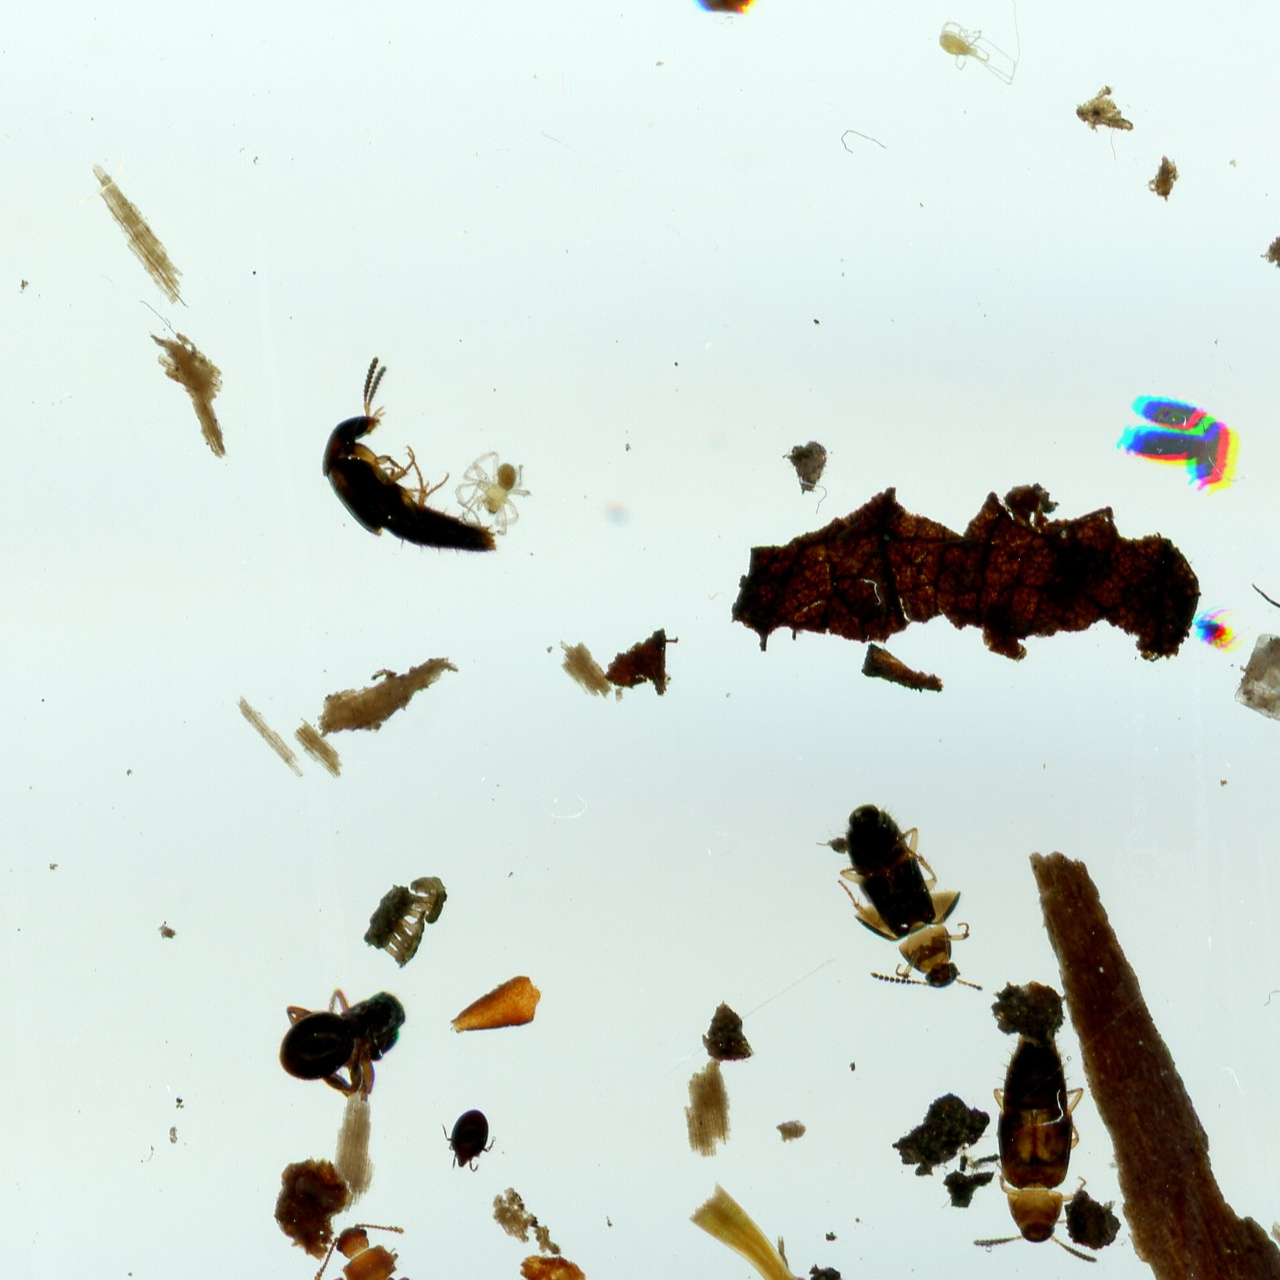arthropod: (277, 345, 508, 613), (810, 778, 1006, 1033), (253, 958, 438, 1131), (971, 1032, 1101, 1276), (297, 1201, 471, 1280), (1244, 525, 1280, 855), (934, 0, 1023, 88), (451, 445, 533, 539), (1112, 421, 1203, 468), (440, 1105, 499, 1175), (1192, 416, 1238, 495), (1137, 392, 1211, 438), (1193, 606, 1248, 651)
